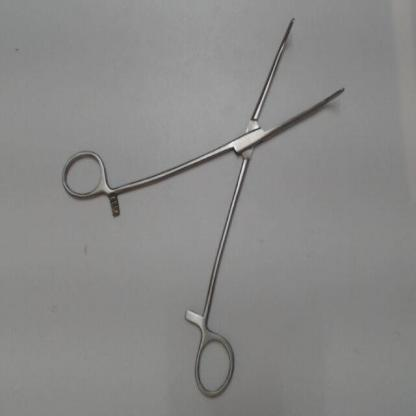Lahey Forceps: (55, 9, 353, 407)
